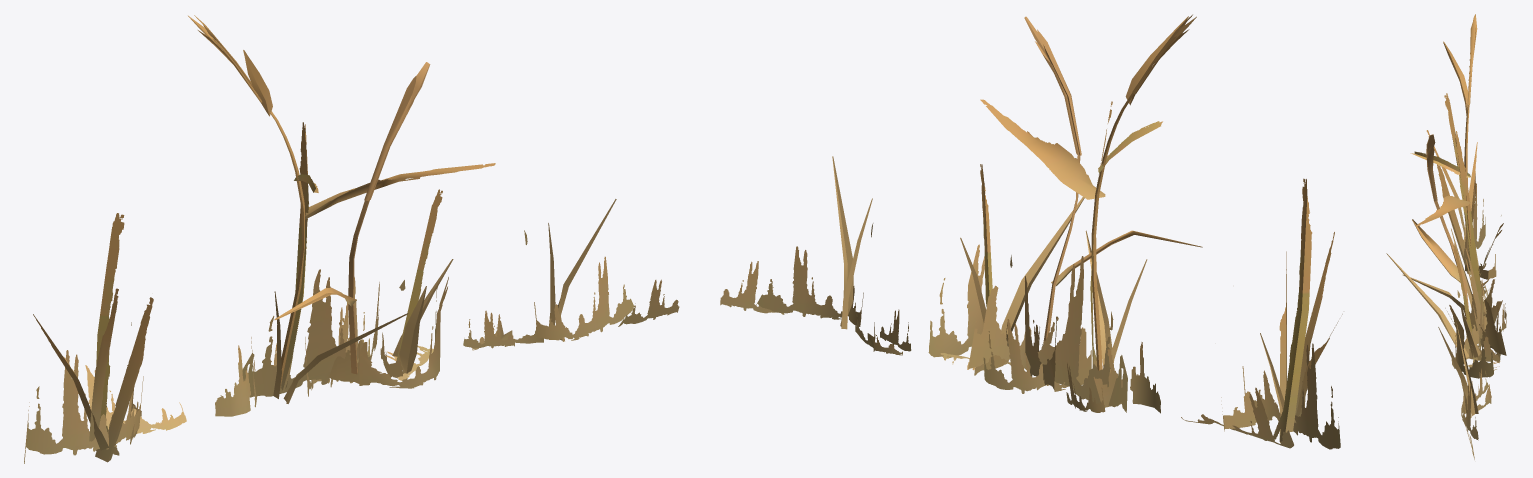
The picture shows the model from 3 angles, left to right: view 1: azimuth 30°, elevation 25°; view 2: azimuth 150°, elevation 25°; view 3: azimuth 270°, elevation 25°; orthographic projection. The views are drawn at different scales.
Visible parts, largest first — view 1: body0_model0_lod0_mesh0; view 2: body0_model0_lod0_mesh0; view 3: body0_model0_lod0_mesh0.
Boxes of the visible parts, <box> form: body0_model0_lod0_mesh0: <box>24,15,679,463</box>; body0_model0_lod0_mesh0: <box>720,14,1342,449</box>; body0_model0_lod0_mesh0: <box>1386,14,1506,459</box>.
Bounding box in the file's own units: 114 × 70.88 × 28.77.
1 material, 1 textured.
